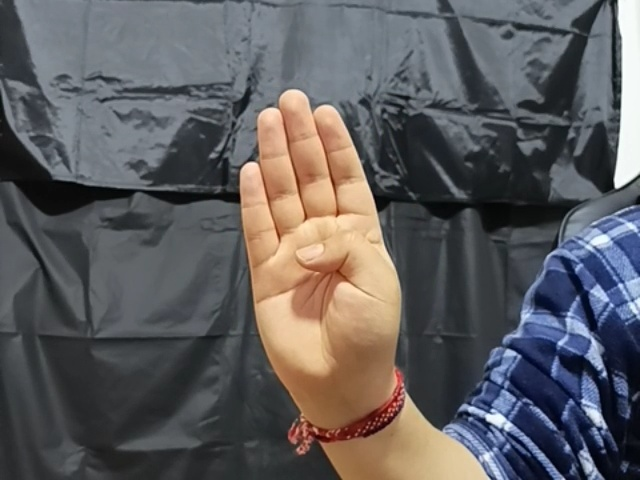B: (227, 86, 407, 382)
